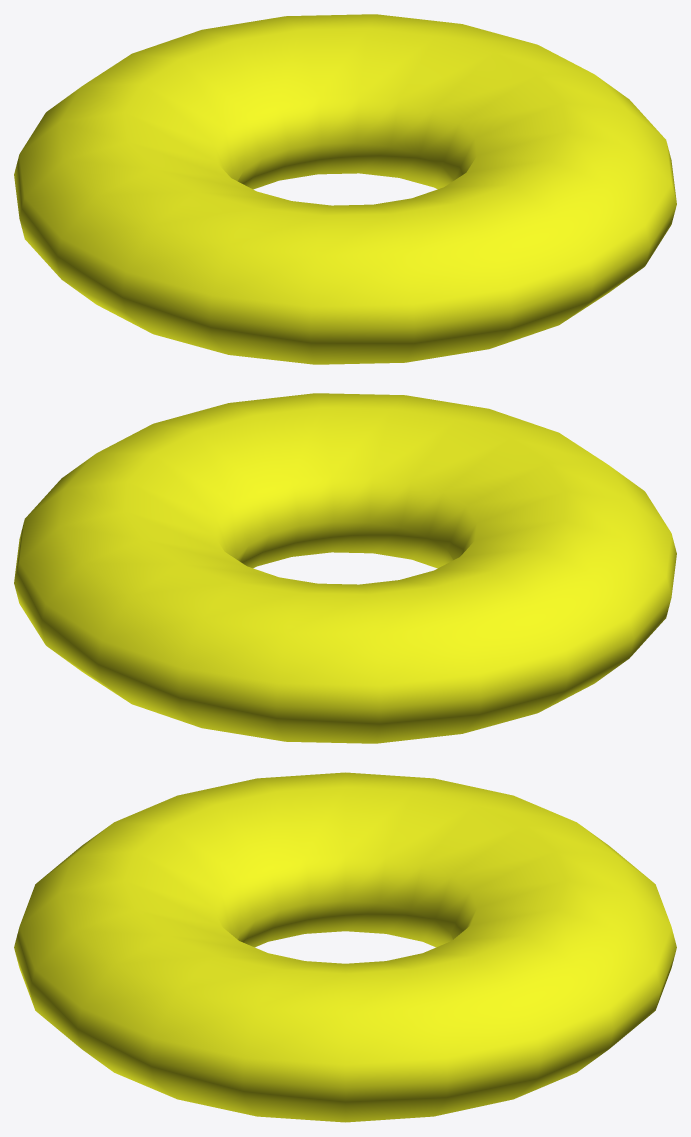
The model's file is Macrophages_leg.obj.
3 views of the same model, one above another, from view 1: azimuth 30°, elevation 25°; view 2: azimuth 150°, elevation 25°; view 3: azimuth 270°, elevation 25° (orthographic).
Visible parts, largest first — view 1: pTorus1 group1; view 2: pTorus1 group1; view 3: pTorus1 group1.
Boxes of the visible parts, box(x1,y1,x2,y2) form: pTorus1 group1: box(14, 14, 676, 364); pTorus1 group1: box(14, 393, 676, 743); pTorus1 group1: box(14, 772, 676, 1122).
Bounding box in the file's own units: 3 × 0.6685 × 3.
1 material, 1 textured.
